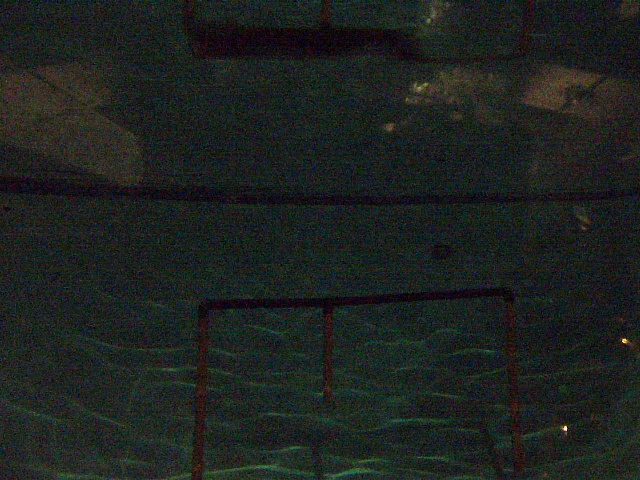Gate: (500, 296, 530, 473), (190, 307, 212, 477), (321, 306, 337, 402)
